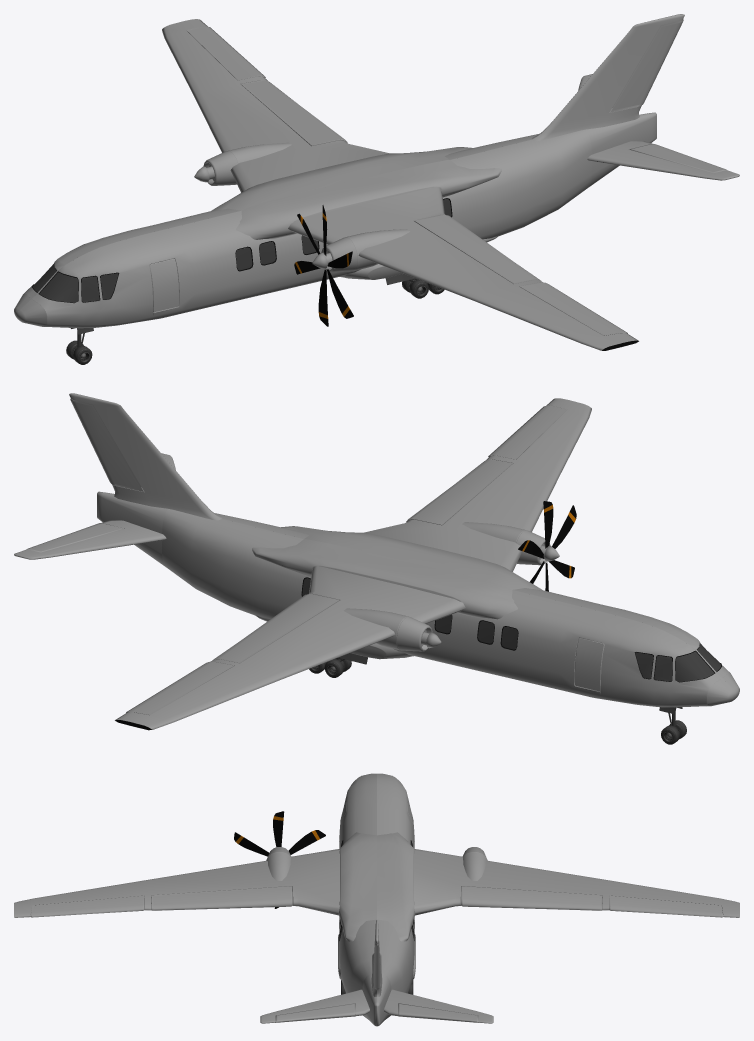
Rendered from airplane_e.FBX.
3 renders of one model, top to bottom at view 1: azimuth 30°, elevation 25°; view 2: azimuth 150°, elevation 25°; view 3: azimuth 270°, elevation 25°, orthographic. The views are drawn at different scales.
Parts seen in each view (by area): view 1: Object007, Line001; view 2: Object007, Line001; view 3: Object007, Line001.
Part boxes in pixels (<box>): Object007: <box>14,14,739,364</box>; Line001: <box>294,205,353,326</box>; Object007: <box>14,393,739,744</box>; Line001: <box>518,501,576,591</box>; Object007: <box>14,773,739,1026</box>; Line001: <box>234,811,325,908</box>.
Bounding box in the file's own units: 27.34 × 7.86 × 31.16.
